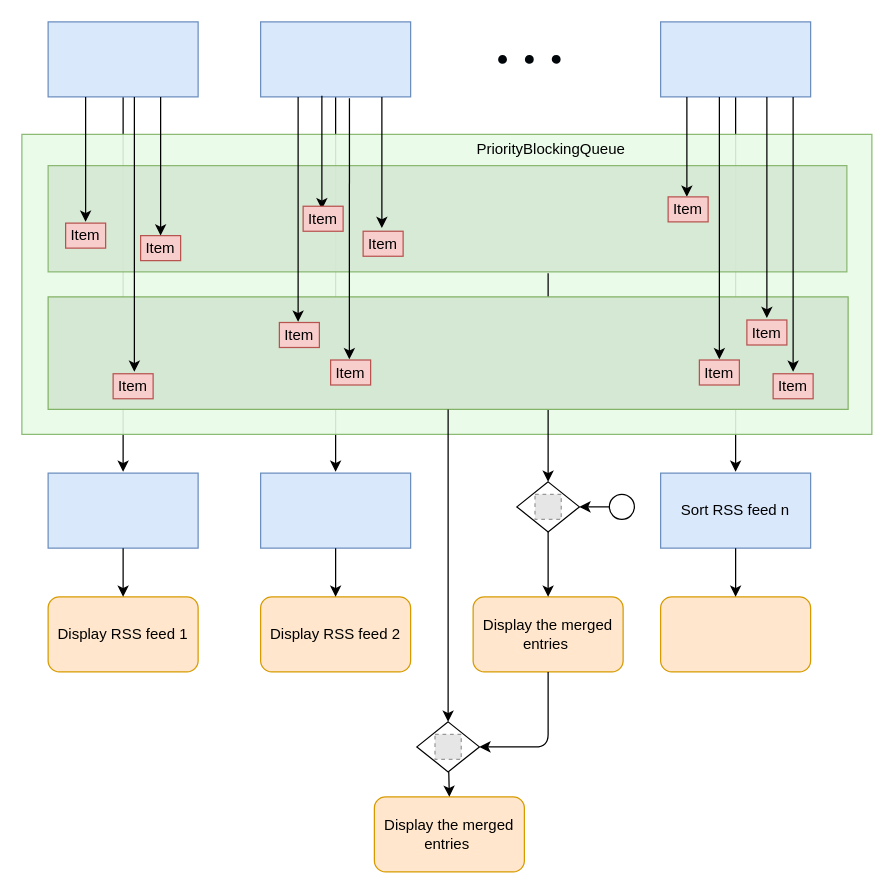
Image size: 894x894. Some labels were removed from this diagram. Grey dashed boxes stand in for pictures. The shapes that lost their labels are listed below. From the top down, each one's centre as x and y in pixels, then its label:
the point at 122,59: Get and parse RSS feed 1
the point at 335,59: Get and parse RSS feed 2
the point at 735,59: Get and parse RSS feed n
the point at 122,510: Sort RSS feed 1
the point at 335,510: Sort RSS feed 2
the point at 735,634: Display RSS feed n
